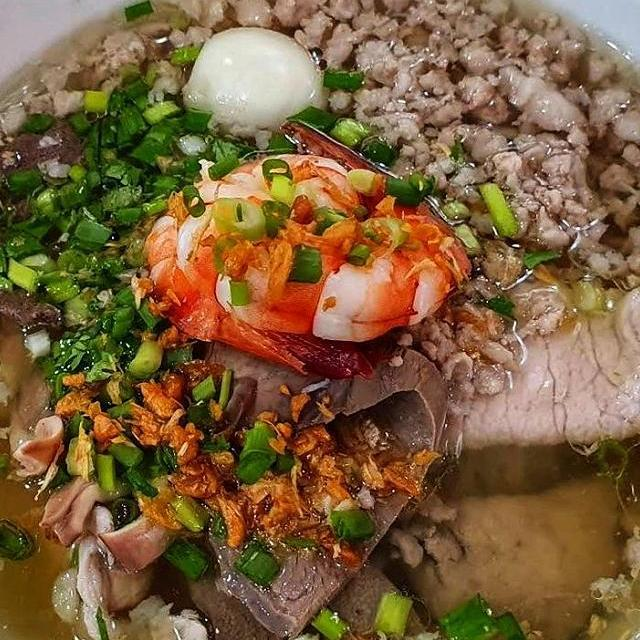gan: (352, 457, 640, 640), (166, 523, 447, 640)
thit bam: (307, 0, 640, 323), (7, 0, 338, 129), (581, 519, 640, 632)
thit heo: (422, 277, 640, 460)
tom: (209, 109, 476, 349), (141, 145, 374, 382)
trung: (174, 20, 337, 132)
